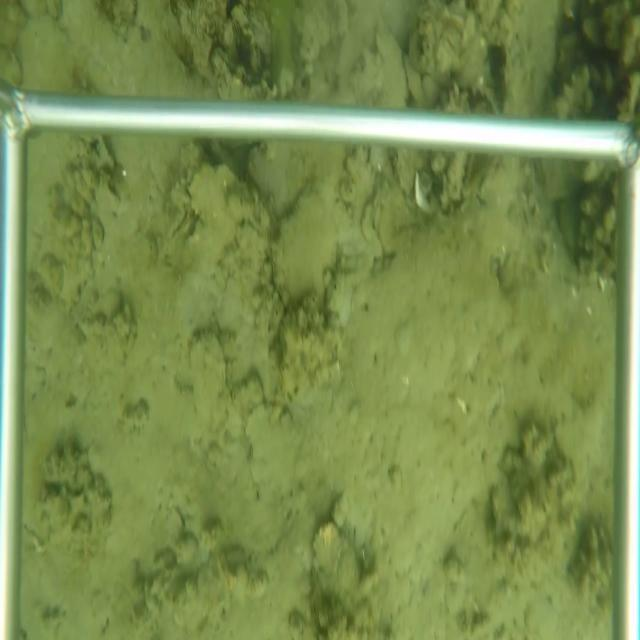Oyster-Indeterminate: (268, 182, 340, 315), (241, 402, 308, 530), (310, 516, 366, 626), (188, 326, 229, 468), (187, 162, 252, 228)
